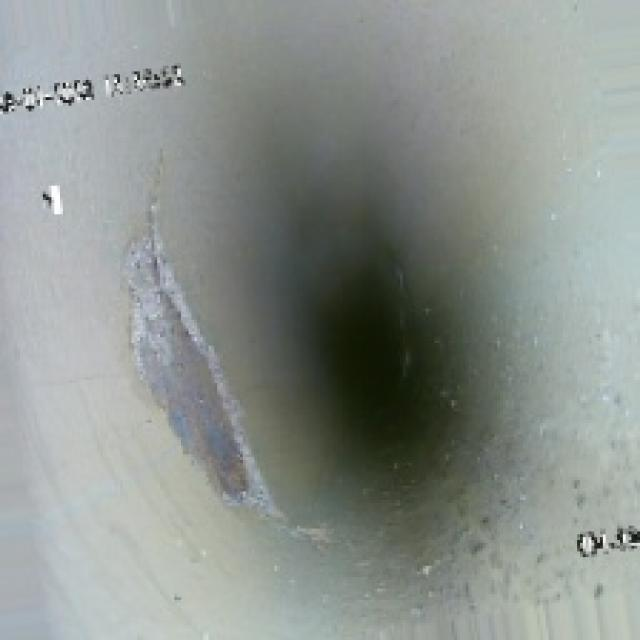pipe_surface_damage: (109, 208, 277, 546)
